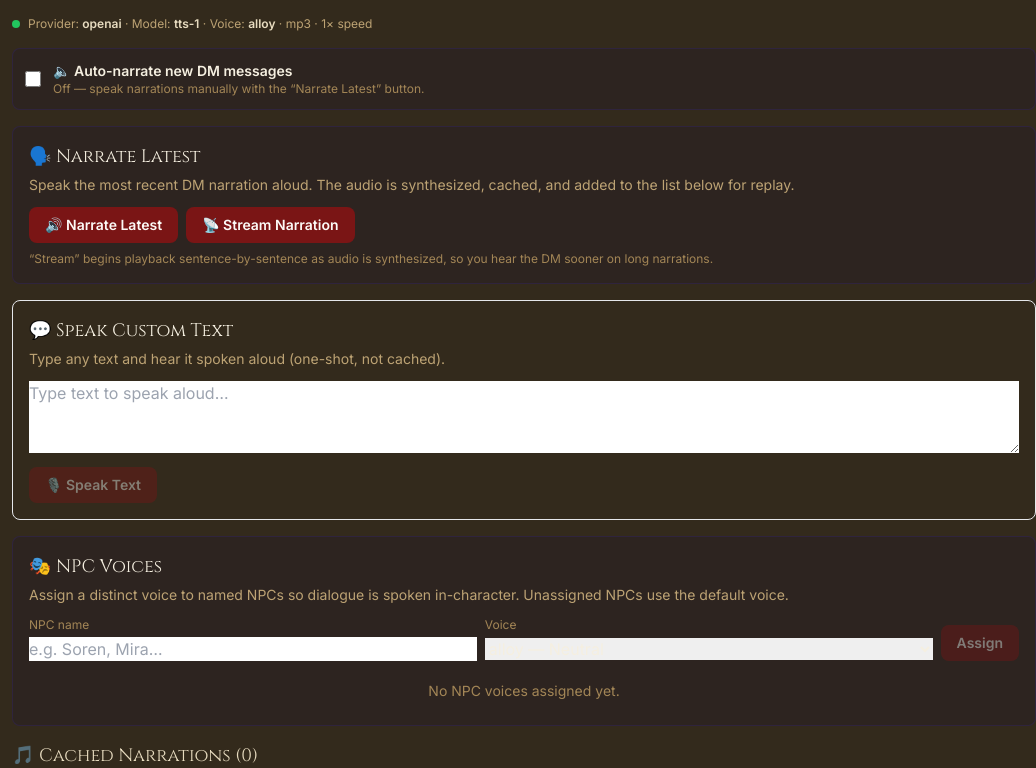
Test: VoicePanel › flips the auto-narrate preference in the shared store when toggled
Click the checkbox labelled "Auto-narrate new DM messages" at [33, 79], box [25,71,41,87]
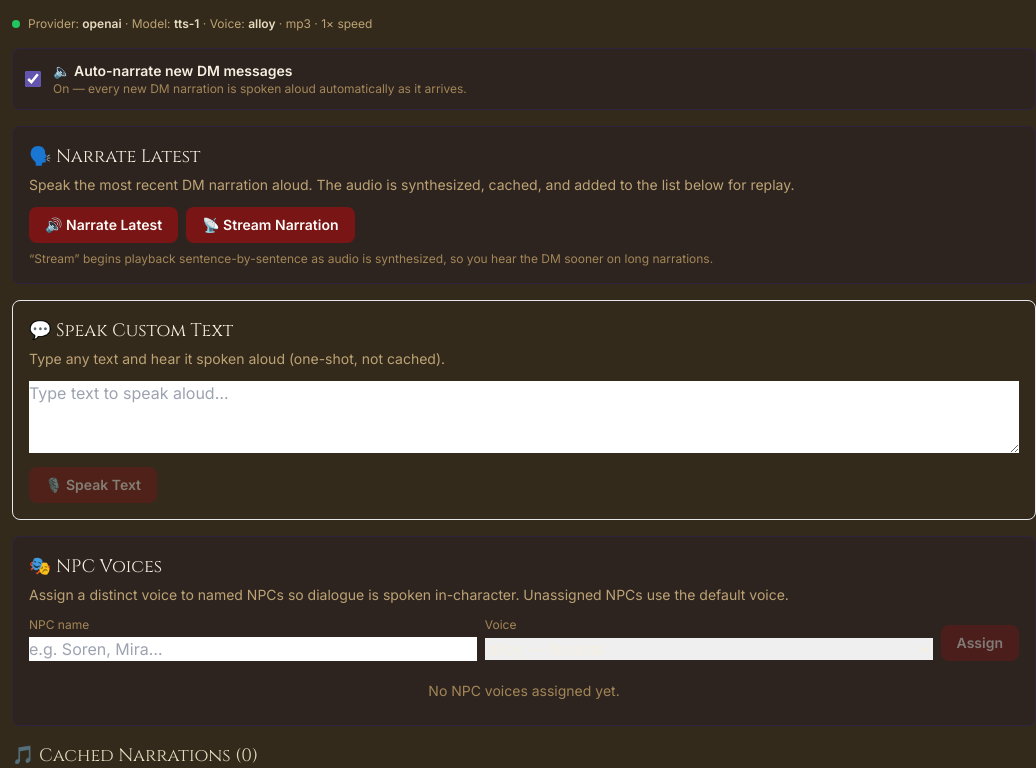
Now the checkbox labelled "Auto-narrate new DM messages" is checked, box [25,71,41,87]
Now the text "spoken aloud automatically" is shown, box [53,81,467,96]
